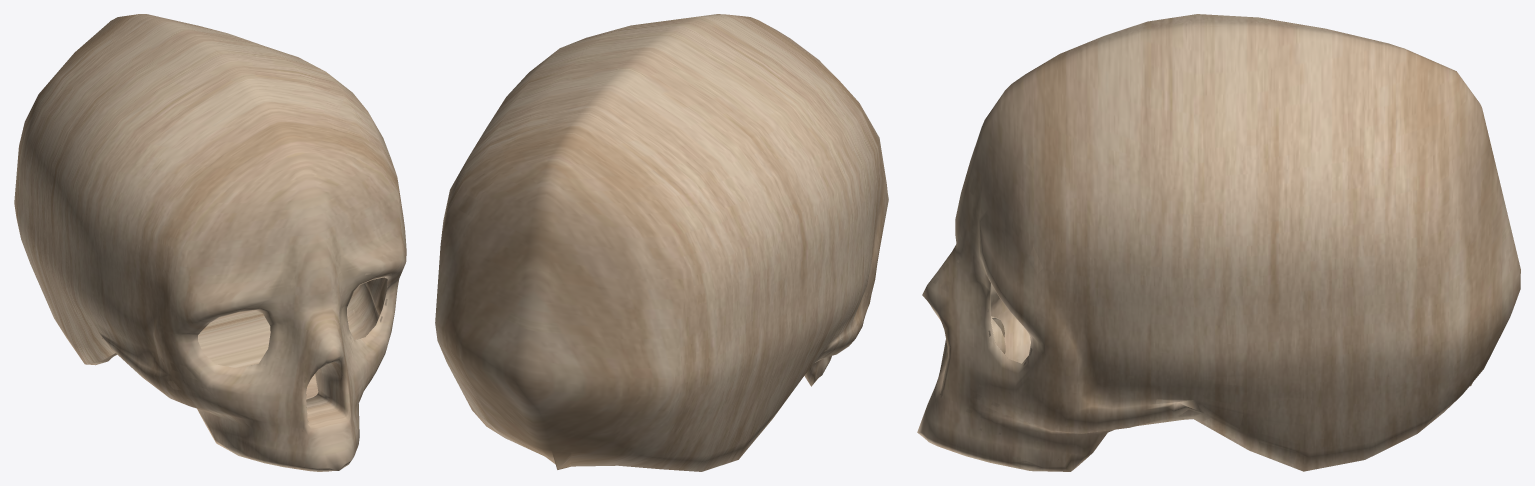
File: cranetest2.obj
3 renders of one model, left to right at view 1: azimuth 30°, elevation 25°; view 2: azimuth 150°, elevation 25°; view 3: azimuth 270°, elevation 25°, orthographic. The views are drawn at different scales.
Visible parts, largest first — view 1: Cube.123_Cube.258; view 2: Cube.123_Cube.258; view 3: Cube.123_Cube.258.
Part boxes in pixels (<box>): Cube.123_Cube.258: <box>14,14,406,471</box>; Cube.123_Cube.258: <box>435,14,888,471</box>; Cube.123_Cube.258: <box>917,14,1520,471</box>.
Bounding box in the file's own units: 6.6 × 7.15 × 9.5.
